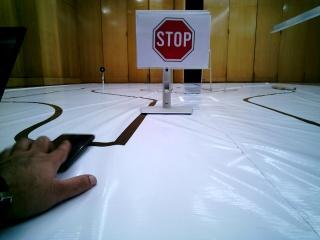stop: (141, 13, 201, 65)
